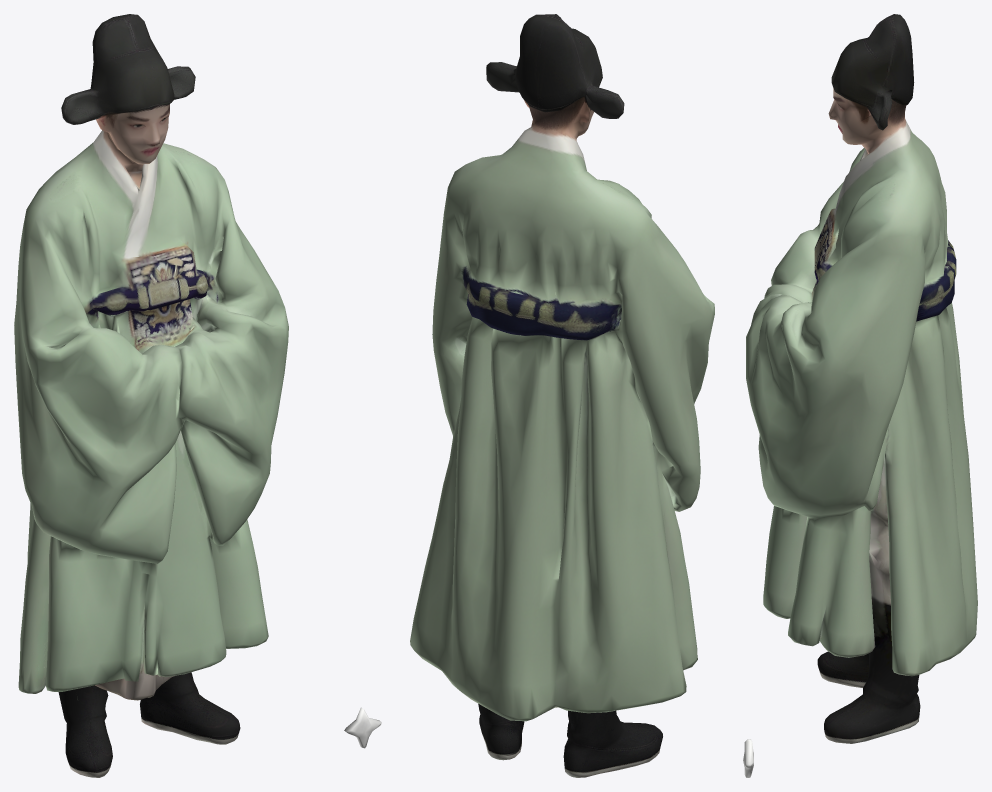
Rendered from official_danghagwan_texture.glb.
3 renders of one model, left to right at view 1: azimuth 30°, elevation 25°; view 2: azimuth 150°, elevation 25°; view 3: azimuth 270°, elevation 25°, orthographic. The views are drawn at different scales.
Visible parts, largest first — view 1: Mesh_0; view 2: Mesh_0; view 3: Mesh_0.
Part boxes in pixels (x1,y1,x2,y2): Mesh_0: [14, 14, 381, 777]; Mesh_0: [410, 14, 714, 777]; Mesh_0: [743, 14, 977, 777].
Bounding box in the file's own units: 0.8493 × 1.91 × 0.591.
Materials: 1 (1 with a texture image).
